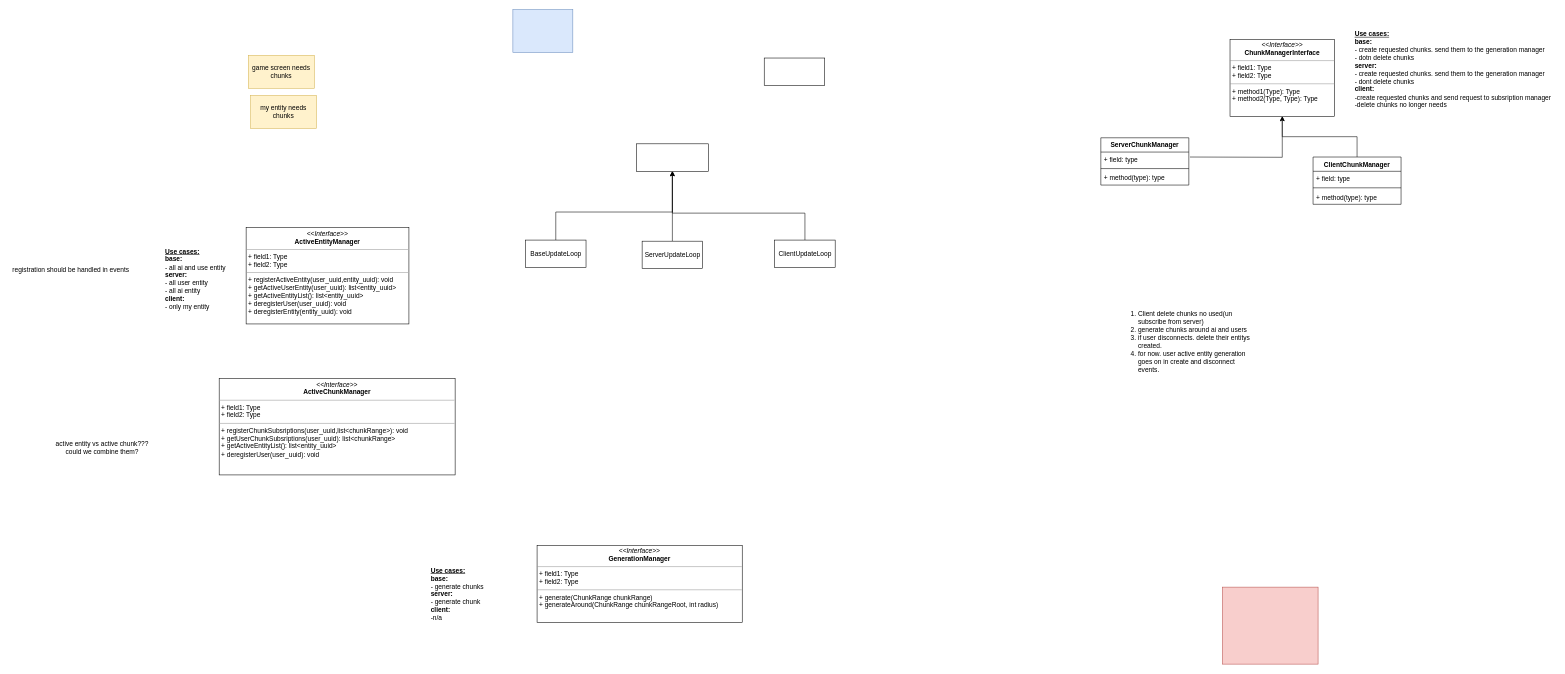
This 1565x674 diagram has some shape labels left out. The shapes that lost their labels are listed below. From the top down, each one's centre as x and y in pixels, then its label:
At point 542,31: "Chunk management should follow...".
At point 794,71: "GameScreen".
At point 672,157: "UpdateLoopInterface".
At point 1270,625: "need to handle. all cases to register active entties".
